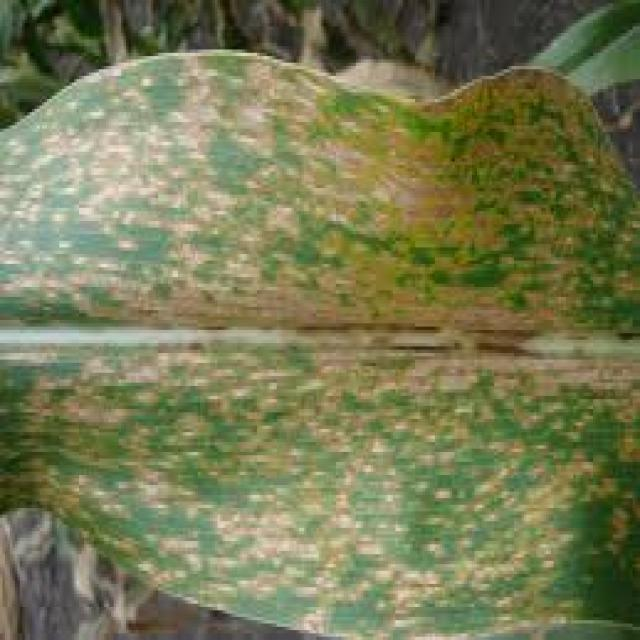Corn_Grey_Leaf_Spot: (2, 62, 639, 640)
